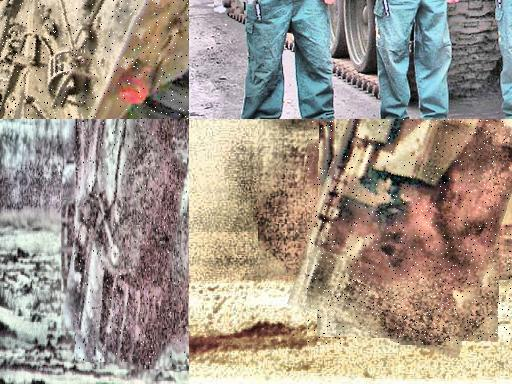tanks: (308, 120, 512, 345), (75, 121, 188, 369), (1, 1, 190, 120), (449, 1, 501, 94), (331, 1, 377, 92)
